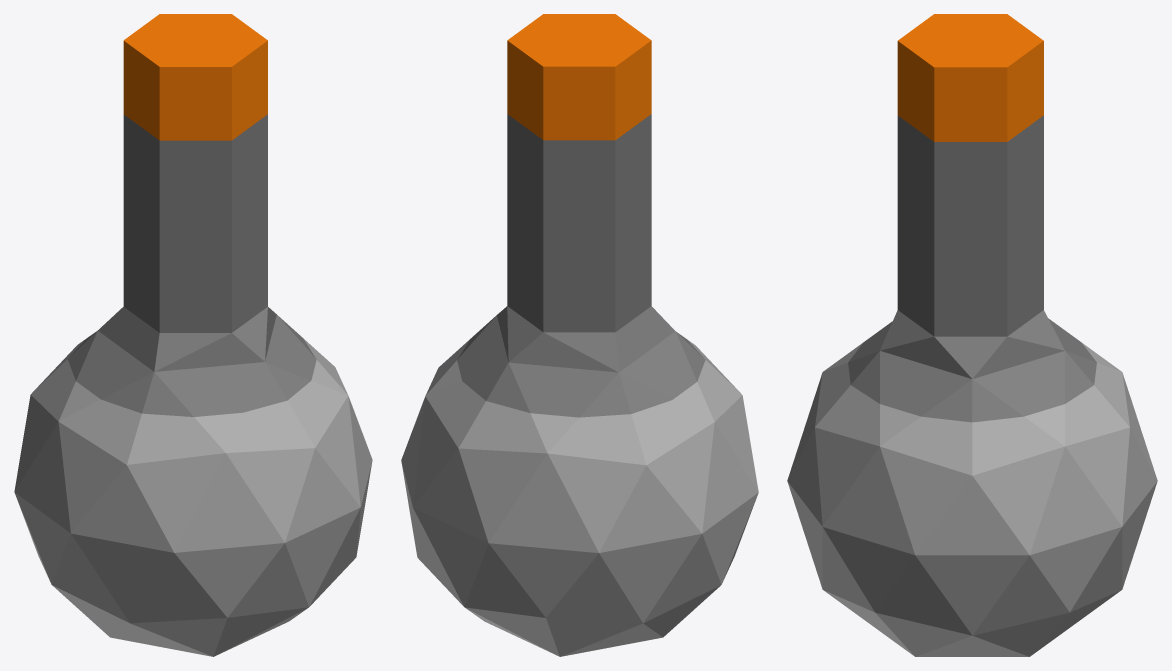
The model's file is potions_340x05.gltf.
3 renders of one model, left to right at view 1: azimuth 30°, elevation 25°; view 2: azimuth 150°, elevation 25°; view 3: azimuth 270°, elevation 25°, orthographic.
Parts seen in each view (by area): view 1: potions_340x05; view 2: potions_340x05; view 3: potions_340x05.
Part boxes in pixels (x1,y1,x2,y2): potions_340x05: (14, 14, 372, 656); potions_340x05: (401, 14, 758, 656); potions_340x05: (787, 14, 1157, 656).
Bounding box in the file's own units: 0.497 × 0.9473 × 0.5225.
Materials: 2 (2 with a texture image).
